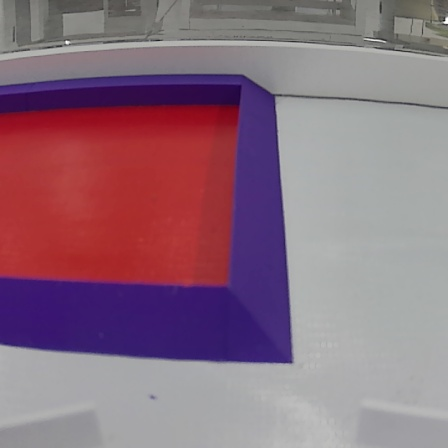red_aim: (1, 74, 293, 365)
